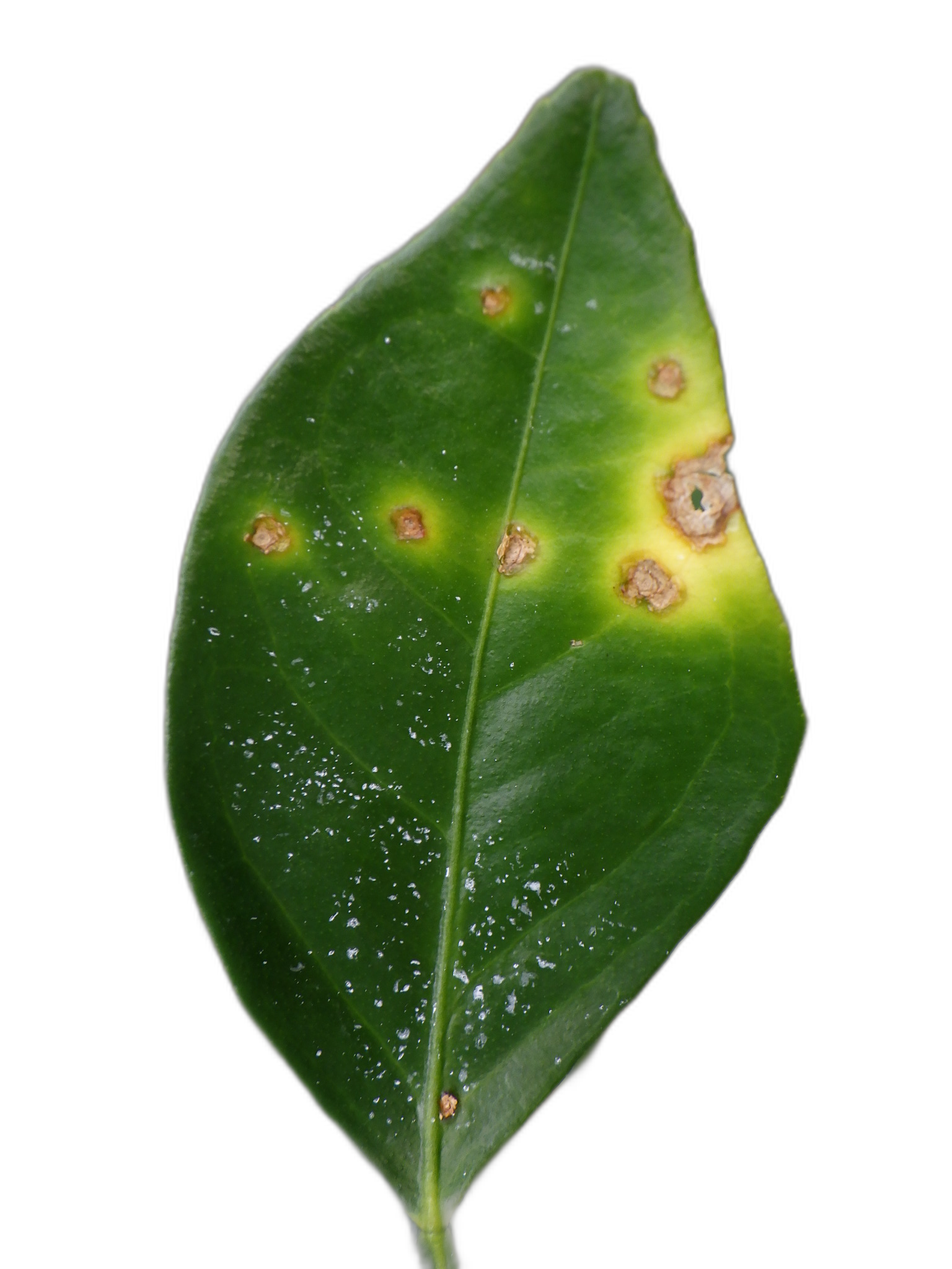Canker: (661, 436, 738, 550), (618, 556, 680, 611), (497, 522, 538, 575), (244, 512, 289, 554), (648, 358, 684, 400), (389, 504, 426, 540), (480, 286, 511, 317)
